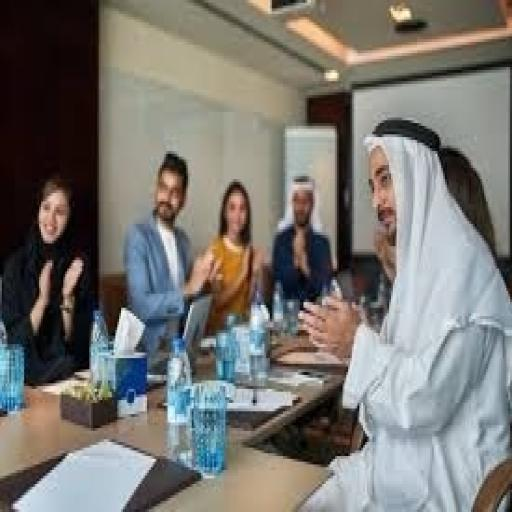clapping: (294, 115, 510, 509), (0, 171, 95, 383), (121, 148, 222, 336), (199, 176, 268, 333), (268, 170, 335, 308)
